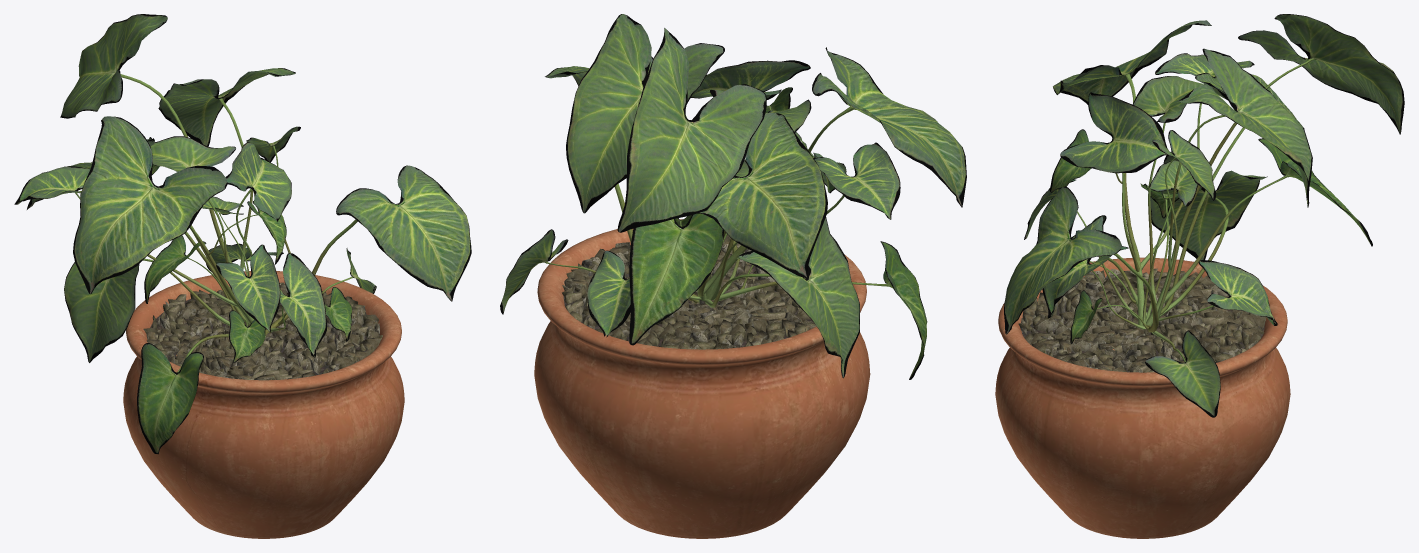
Rendered from potted_plant_02.gltf.
3 views of the same model, side by side, from view 1: azimuth 30°, elevation 25°; view 2: azimuth 150°, elevation 25°; view 3: azimuth 270°, elevation 25° (orthographic). The views are drawn at different scales.
Parts seen in each view (by area): view 1: potted_plant_02_leaves, potted_plant_02_pot, potted_plant_02_dirt; view 2: potted_plant_02_leaves, potted_plant_02_pot, potted_plant_02_dirt; view 3: potted_plant_02_leaves, potted_plant_02_pot, potted_plant_02_dirt.
Boxes of the visible parts, x1=… form: potted_plant_02_leaves: x1=14, y1=14, x2=471, y2=454; potted_plant_02_pot: x1=123, y1=271, x2=404, y2=538; potted_plant_02_dirt: x1=143, y1=282, x2=382, y2=380; potted_plant_02_leaves: x1=500, y1=14, x2=966, y2=379; potted_plant_02_pot: x1=534, y1=219, x2=870, y2=538; potted_plant_02_dirt: x1=562, y1=234, x2=816, y2=349; potted_plant_02_leaves: x1=1004, y1=14, x2=1404, y2=417; potted_plant_02_pot: x1=995, y1=257, x2=1290, y2=538; potted_plant_02_dirt: x1=1018, y1=268, x2=1266, y2=372.
Bounding box in the file's own units: 0.7012 × 0.8412 × 0.6574.
2 materials, 2 textured.
